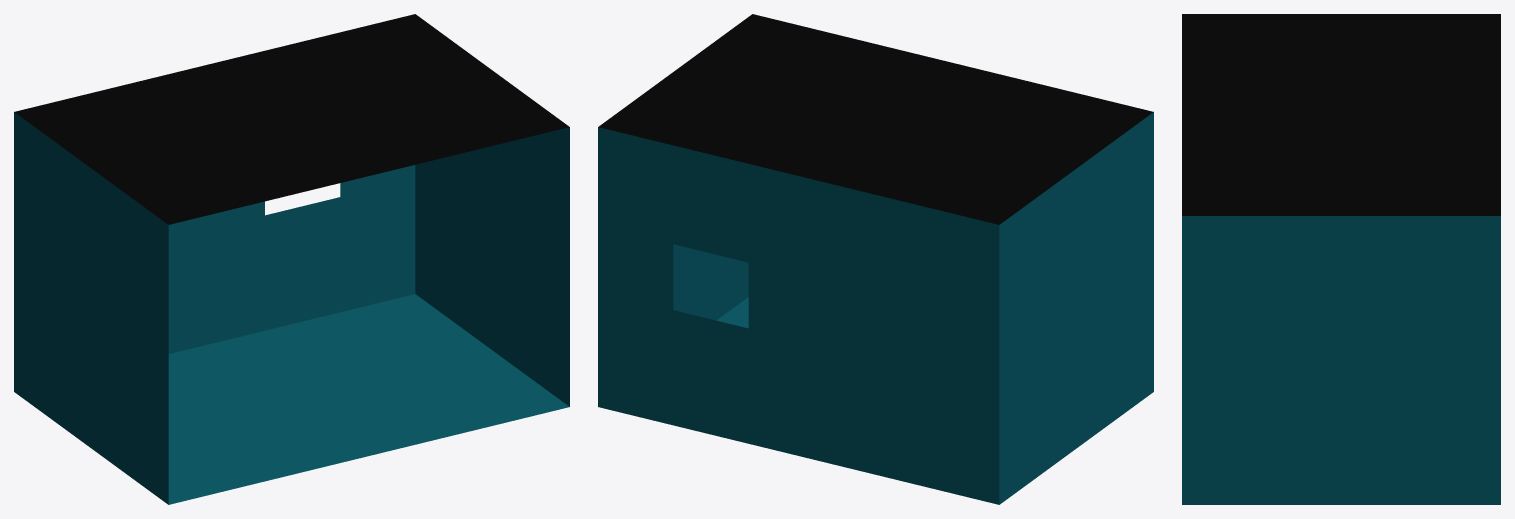
The model's file is RoomWdwR.fbx.
3 views of the same model, side by side, from view 1: azimuth 30°, elevation 25°; view 2: azimuth 150°, elevation 25°; view 3: azimuth 270°, elevation 25° (orthographic). The views are drawn at different scales.
Parts seen in each view (by area): view 1: RoomWdwR; view 2: RoomWdwR; view 3: RoomWdwR.
Part boxes in pixels (x1=…): RoomWdwR: x1=14, y1=14, x2=569, y2=504; RoomWdwR: x1=598, y1=14, x2=1153, y2=504; RoomWdwR: x1=1182, y1=14, x2=1500, y2=504.
Bounding box in the file's own units: 0.3 × 0.2 × 0.2.
